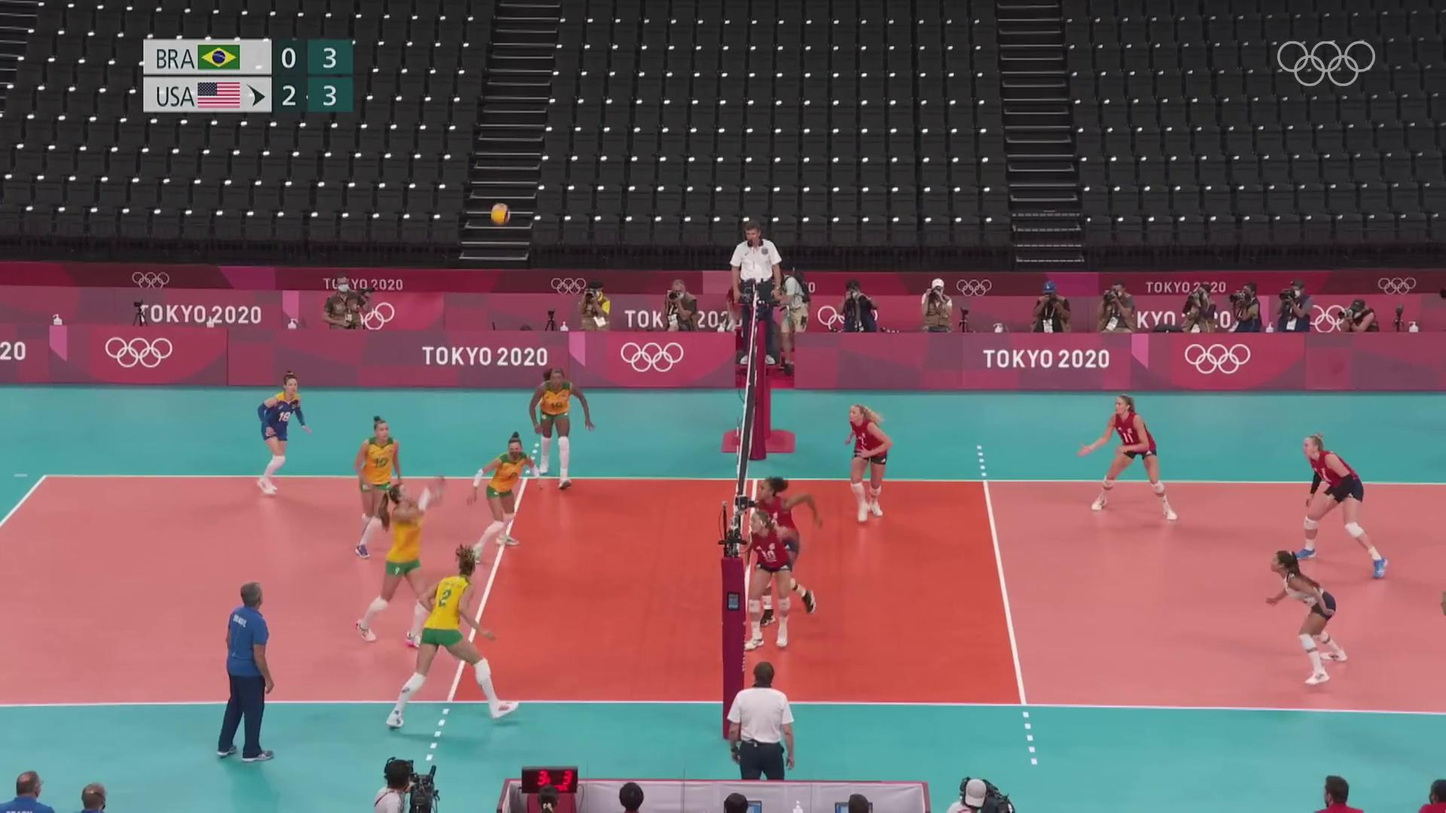player: (391, 550, 519, 726), (355, 476, 445, 647), (1289, 434, 1389, 575), (1081, 398, 1172, 523), (747, 476, 824, 623), (1267, 554, 1350, 687), (463, 433, 534, 559), (526, 367, 593, 493), (743, 510, 793, 654), (354, 420, 402, 563), (253, 379, 309, 499), (846, 403, 896, 525)
refree: (726, 664, 805, 782), (734, 223, 792, 368)
